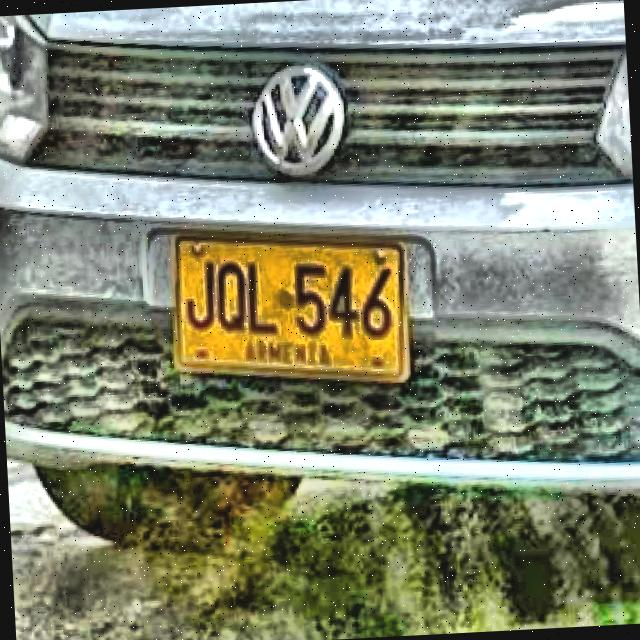plate: (175, 237, 404, 376)
